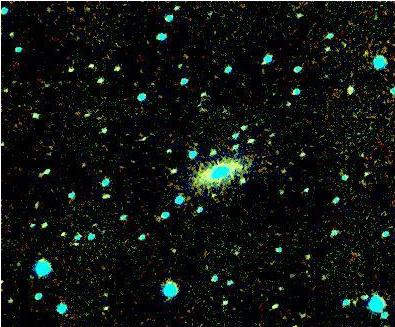star: (198, 180, 228, 210)
